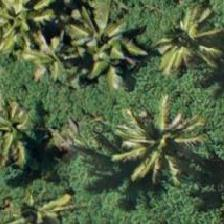coconut_tree: (112, 93, 202, 183), (141, 0, 223, 81), (0, 83, 51, 173), (0, 0, 55, 64)
